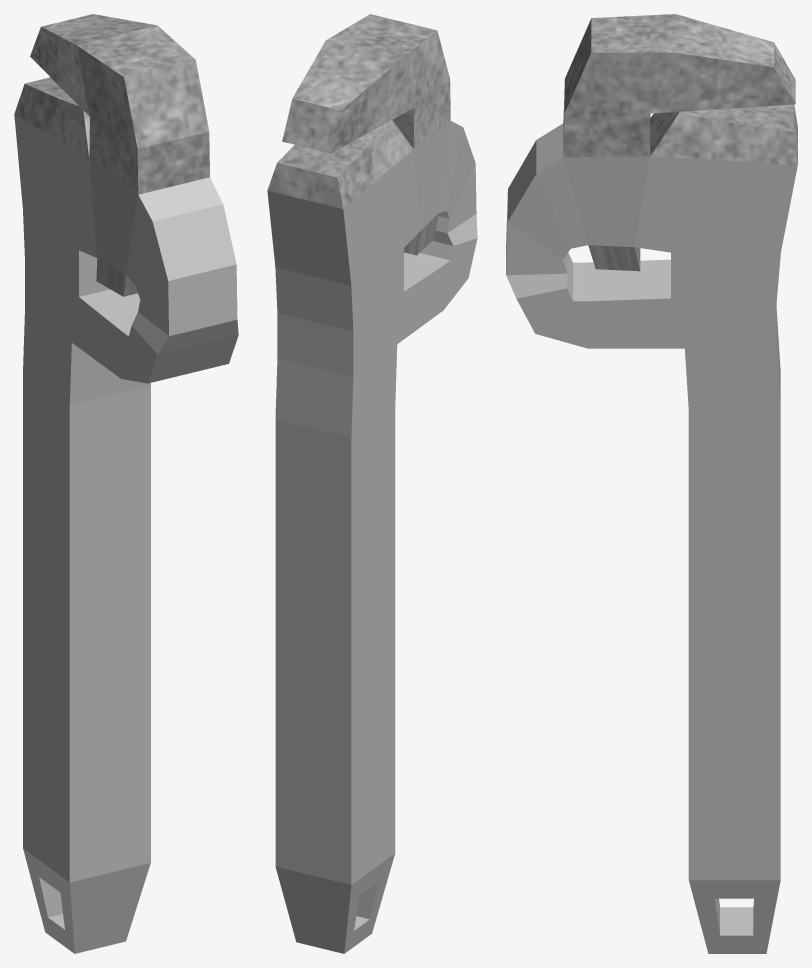
Rendered from klucz francuski.fbx.
3 views of the same model, side by side, from view 1: azimuth 30°, elevation 25°; view 2: azimuth 150°, elevation 25°; view 3: azimuth 270°, elevation 25° (orthographic). The views are drawn at different scales.
Visible parts, largest first — view 1: Cube; view 2: Cube; view 3: Cube.
Boxes of the visible parts, left/top/right/bottom form: Cube: left=14, top=14, right=238, bottom=953; Cube: left=267, top=14, right=477, bottom=953; Cube: left=506, top=14, right=797, bottom=953.
Bounding box in the file's own units: 8.77 × 95.6 × 27.82.
